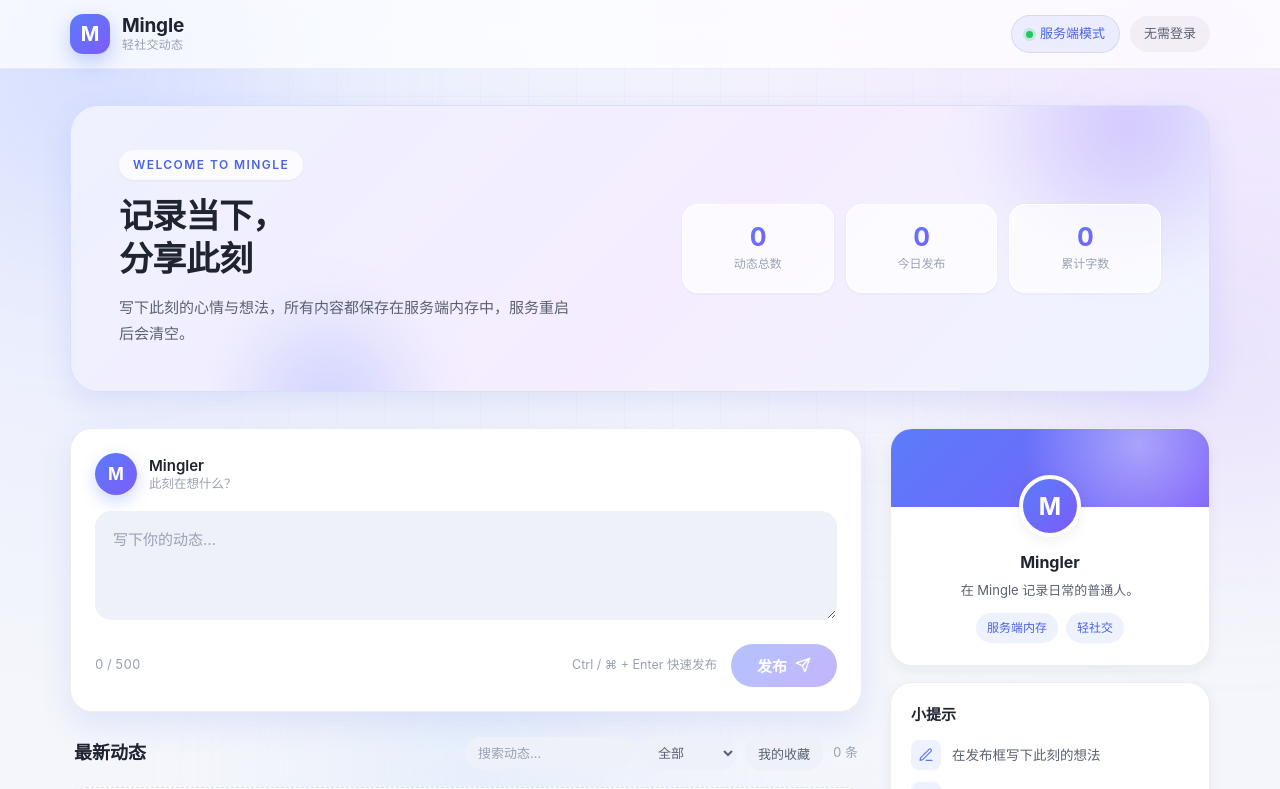
Test case: App › 发布后动态流、条数与三项统计联动更新
The width and height of the screenshot is (1280, 789).
Step 1. Type "今天" into the text box with placeholder "写下你的动态…" → (466, 566), box [95,511,837,620]
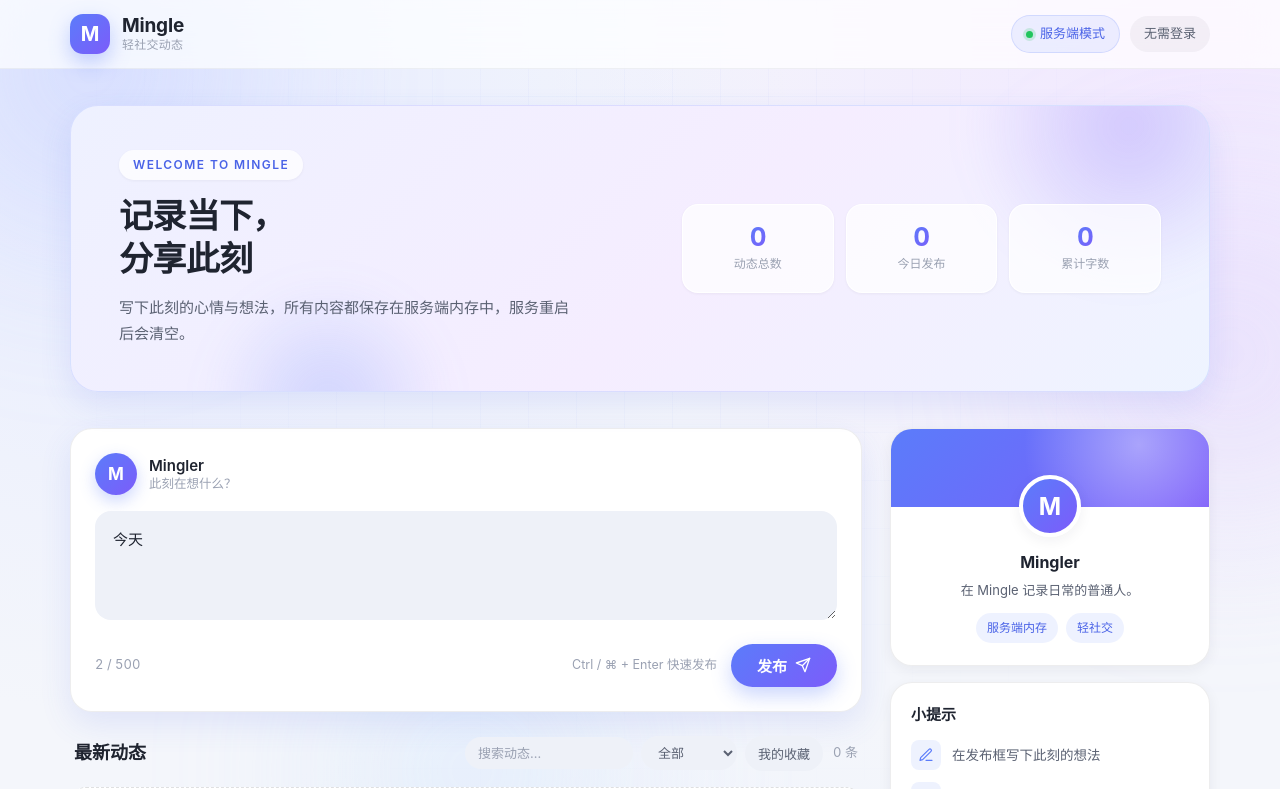
Step 2. Click the button with class "composer__submit" → (784, 665), box [731,644,837,687]
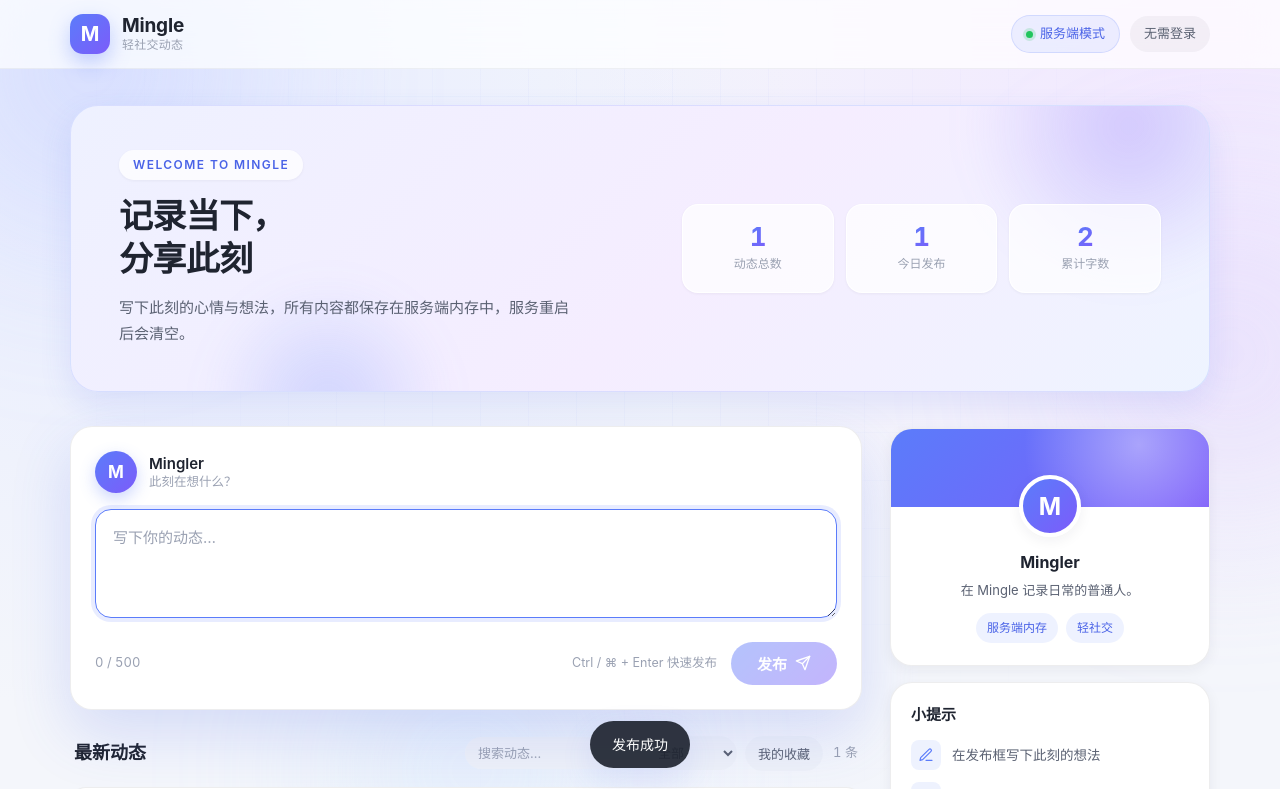
expect the text with class "feed__count" reads "1 条": met, box [833,744,858,760]
expect the message with class "toast" reads "发布成功": met, box [612,736,668,753]
